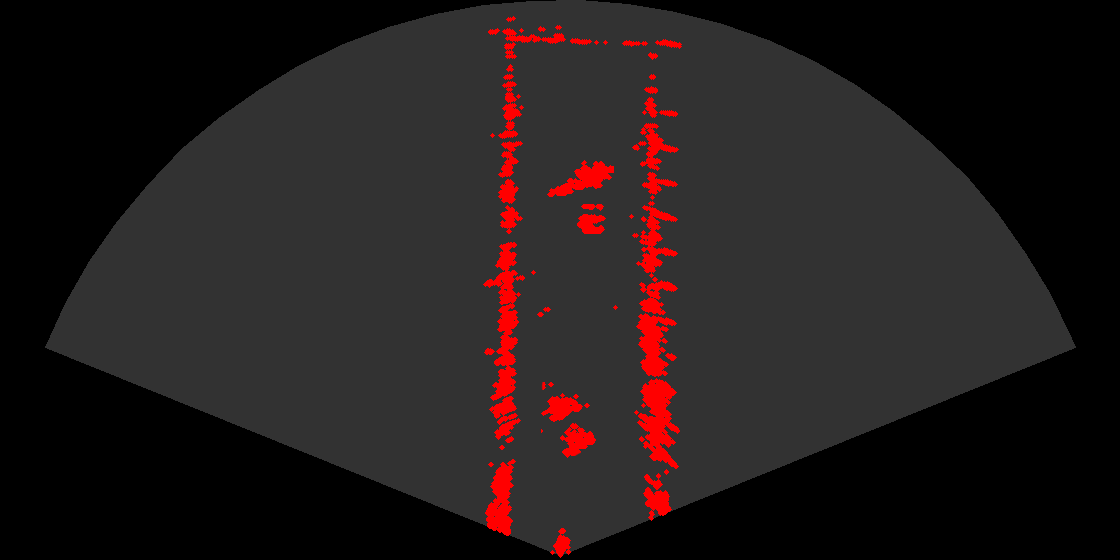ball: (557, 196, 617, 237)
cage: (541, 382, 604, 466)
frogman: (546, 154, 614, 201)
